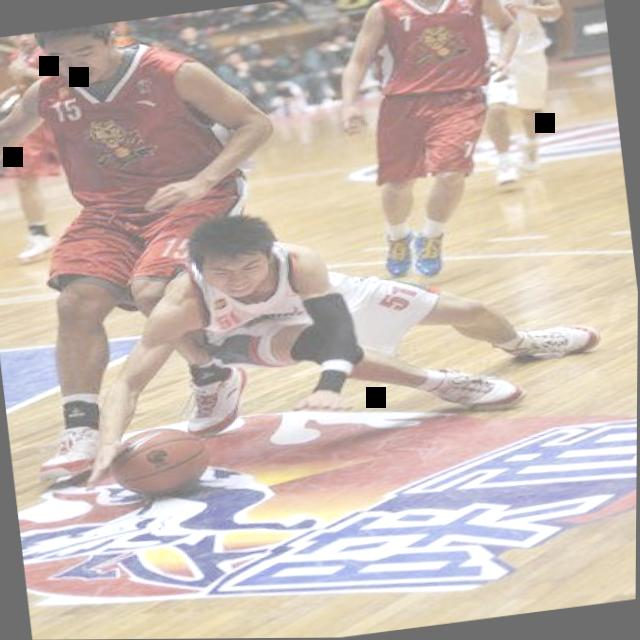Fall-Detected: (85, 162, 639, 471)
